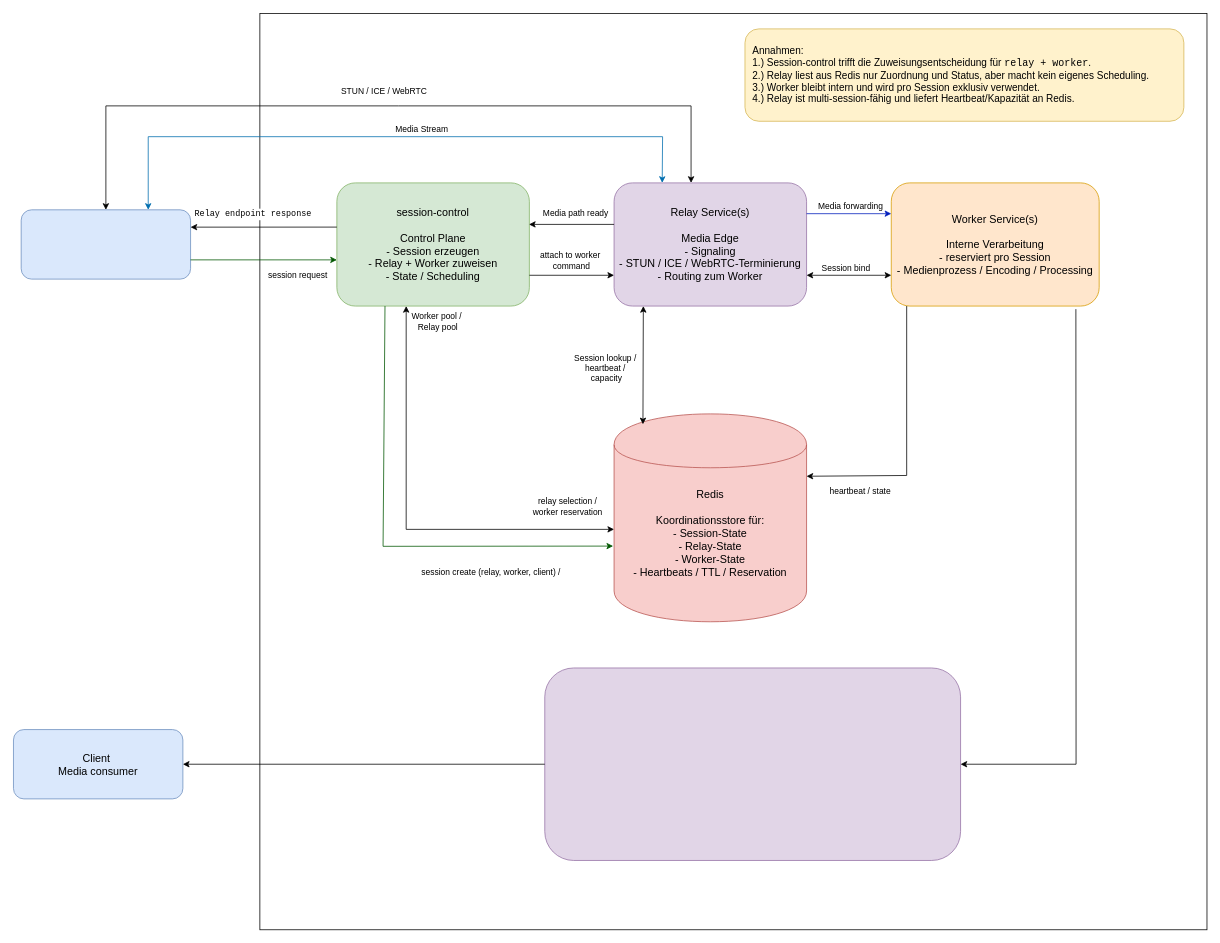
Image size: 1220x943. Some labels were removed from this diagram. The box of each missing label's shape, as (x1, y1, x2, y2) in pixels:
Client Media Source: (20, 209, 191, 279)
Downstream media pipeline (blackbox): (544, 667, 961, 860)
